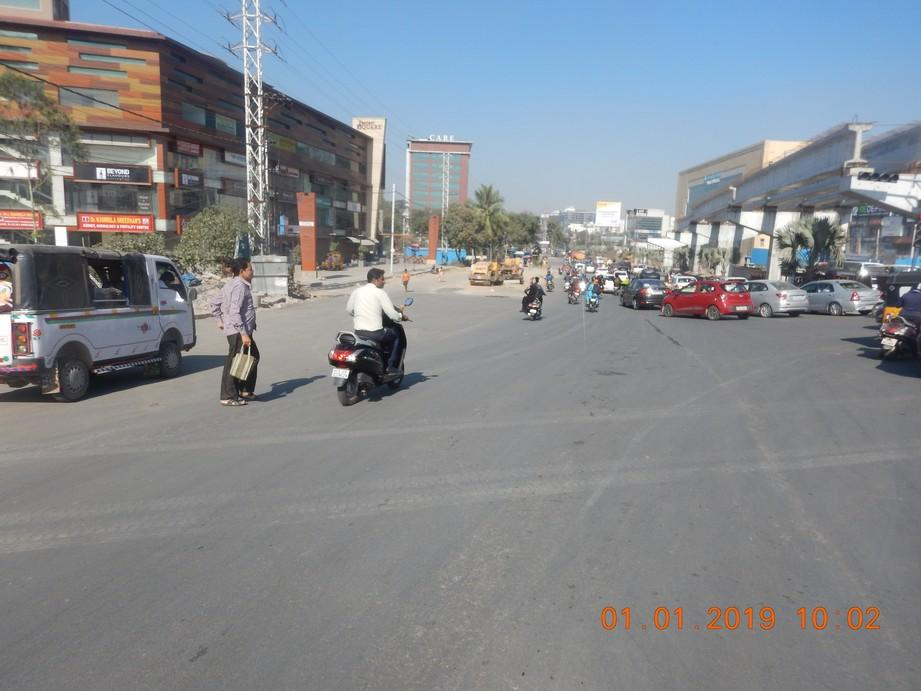plate: (331, 368, 350, 380)
